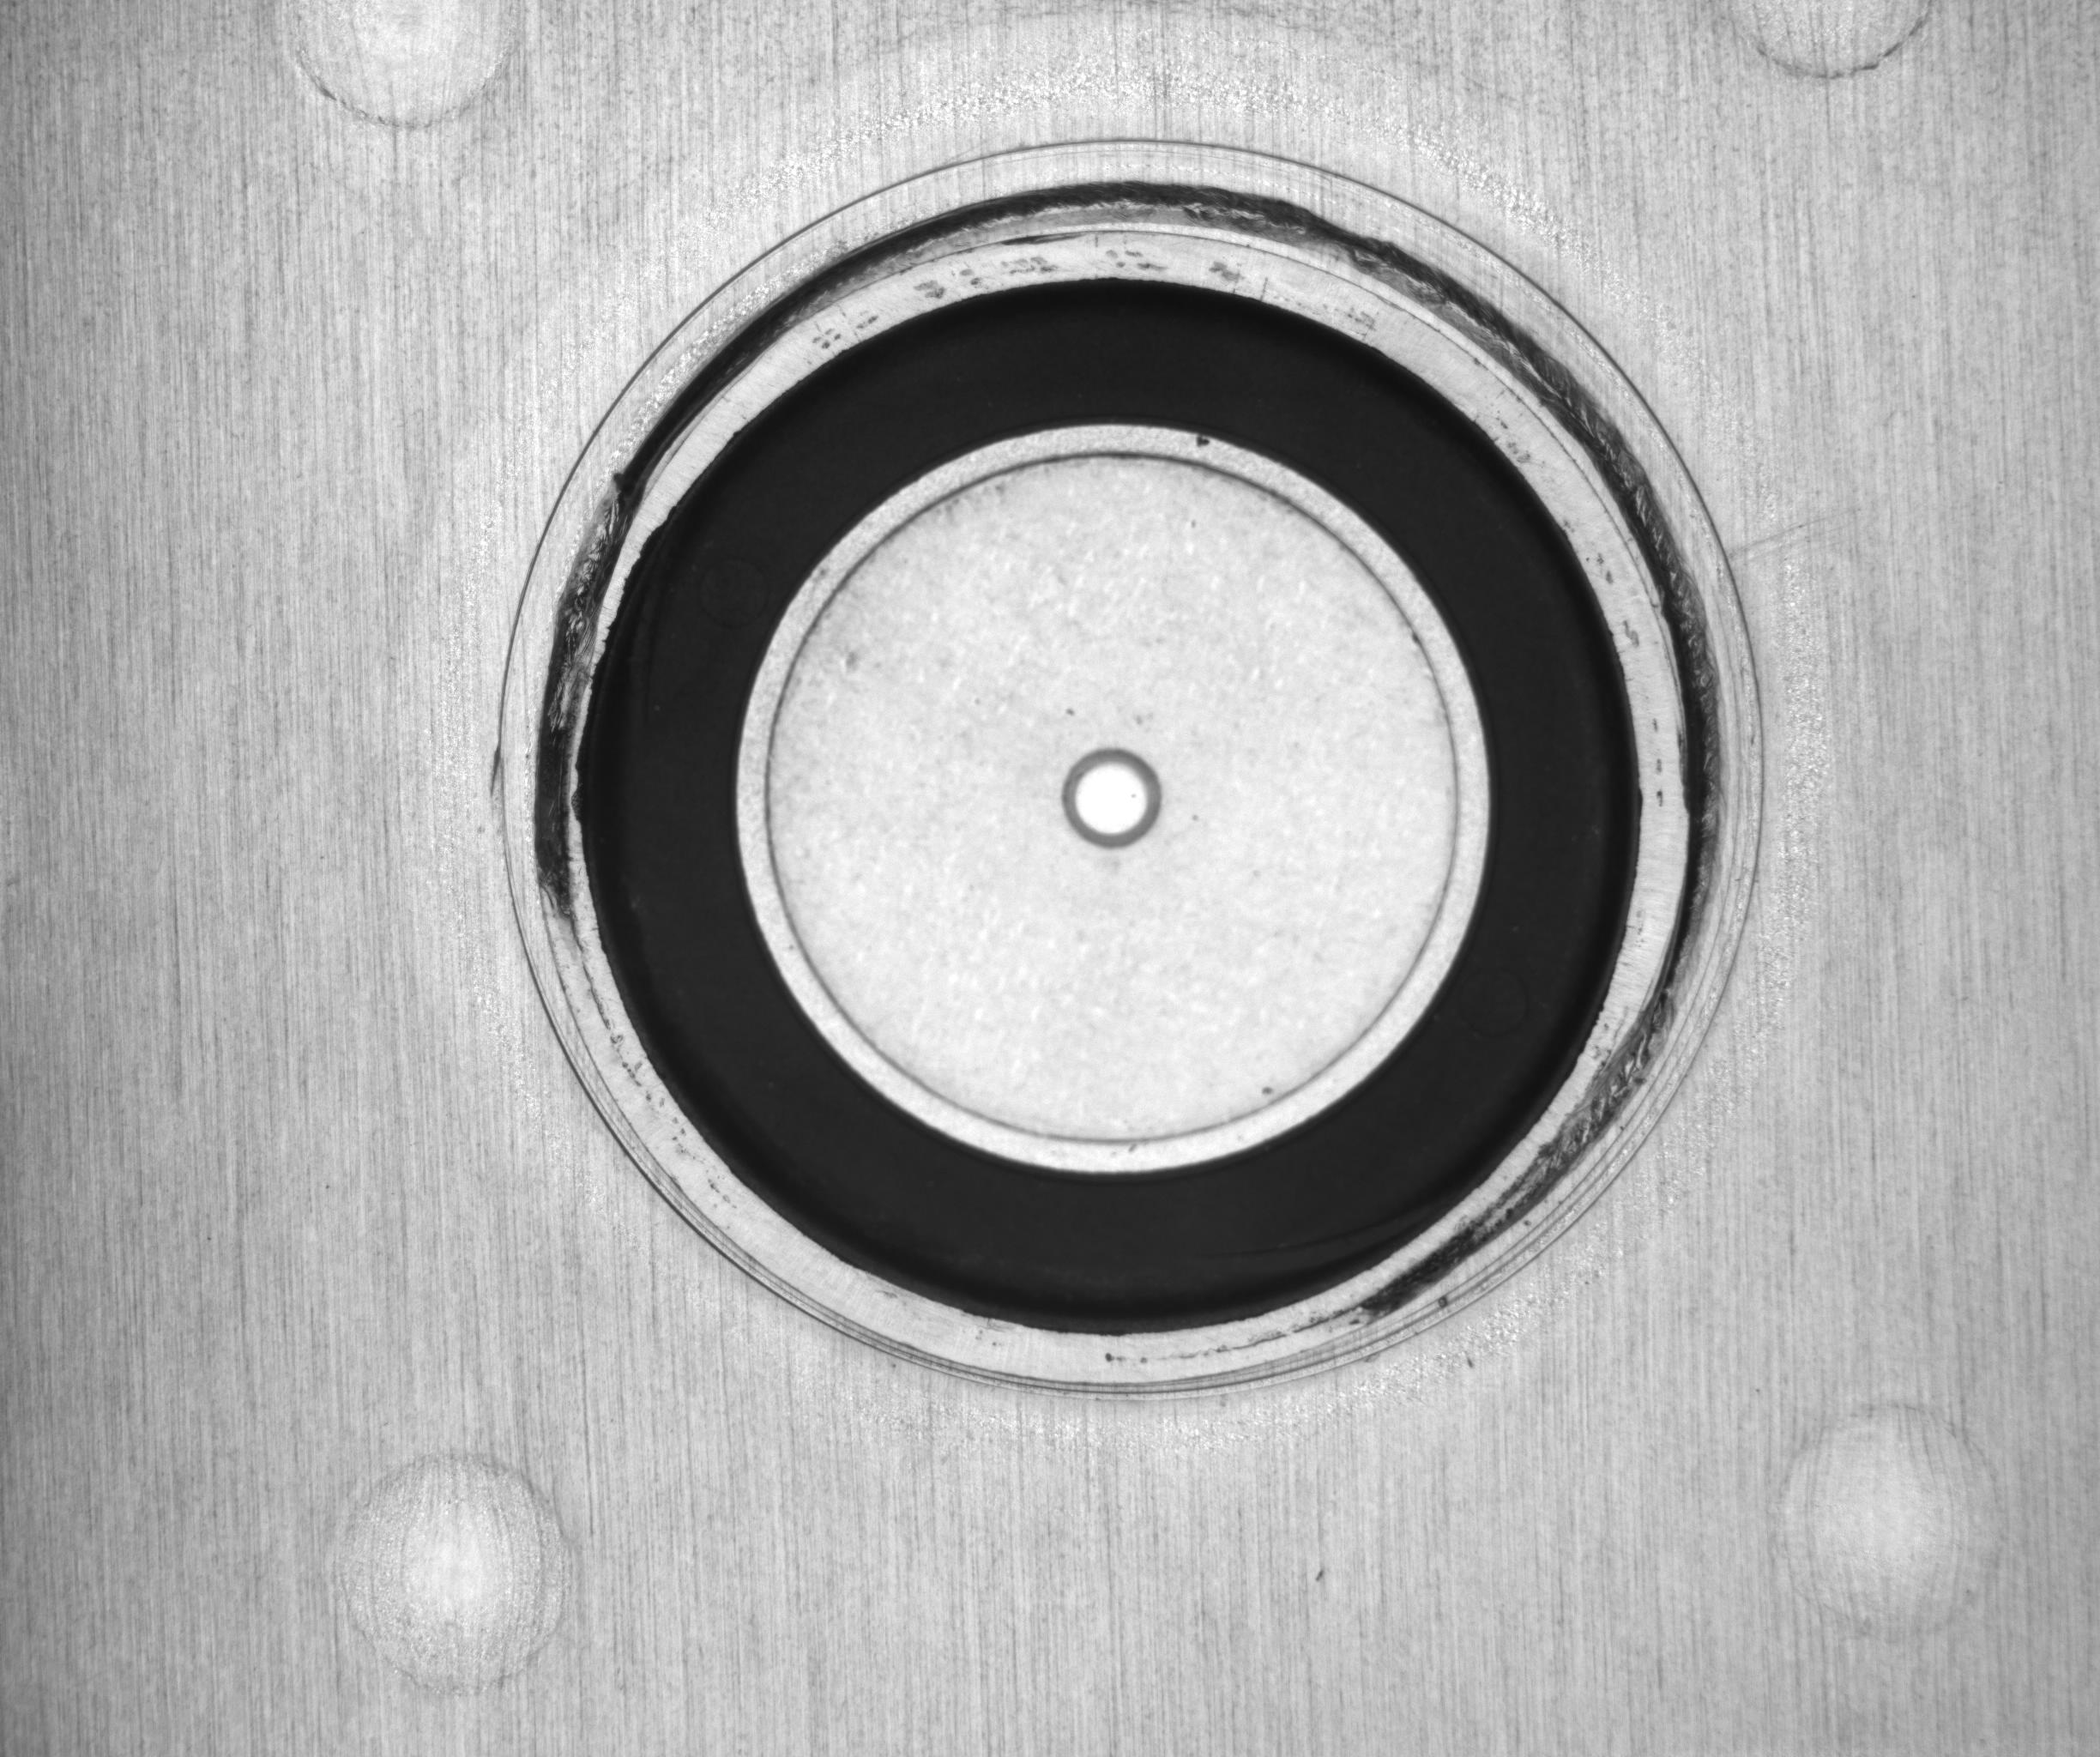shifting: (494, 127, 1767, 1408)
